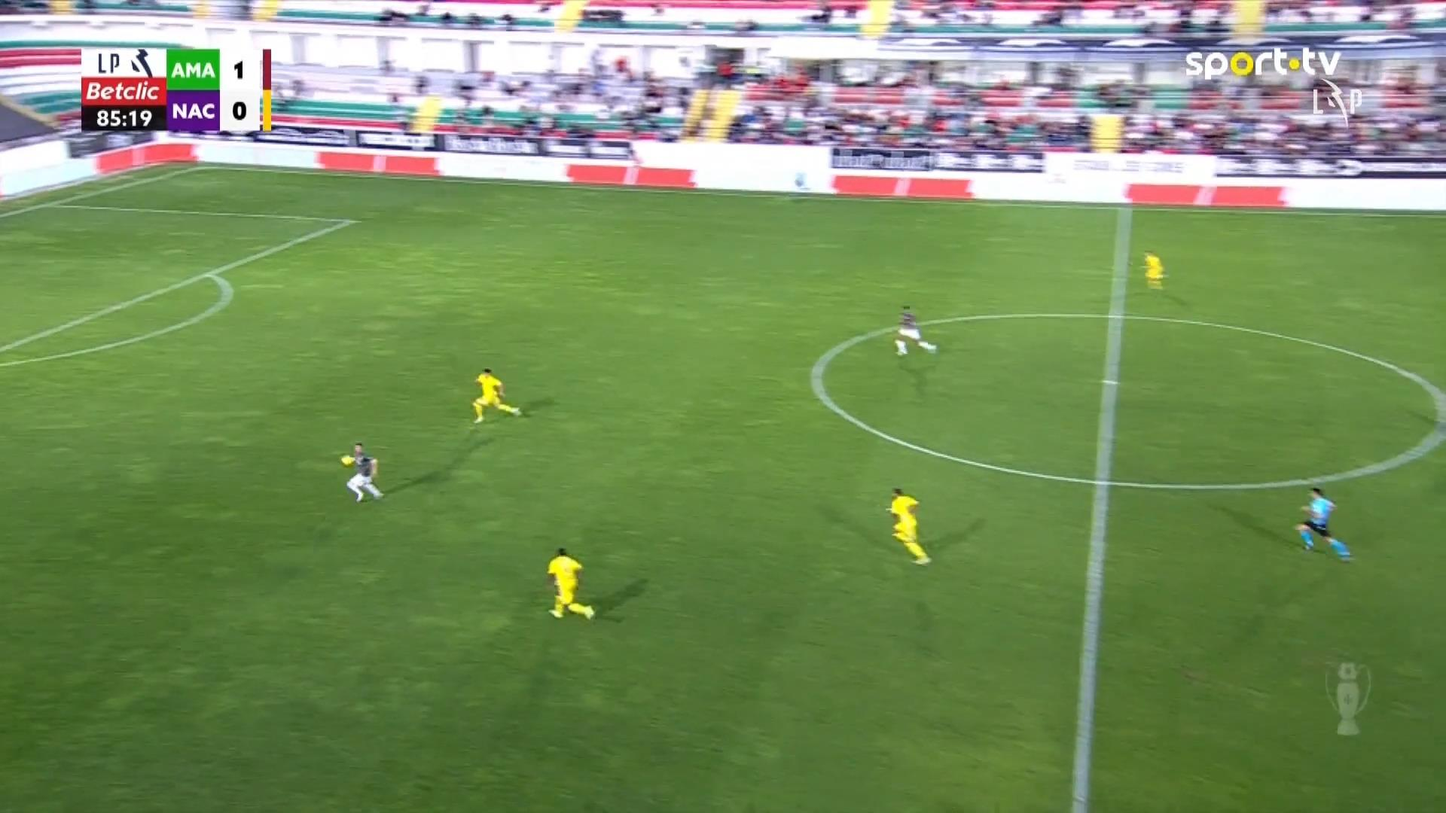ball: (340, 455, 354, 466)
player: (545, 546, 595, 620), (886, 486, 932, 565), (470, 367, 522, 424), (340, 441, 383, 502), (892, 303, 938, 357), (1142, 250, 1165, 290)
referee: (1295, 485, 1354, 561)
